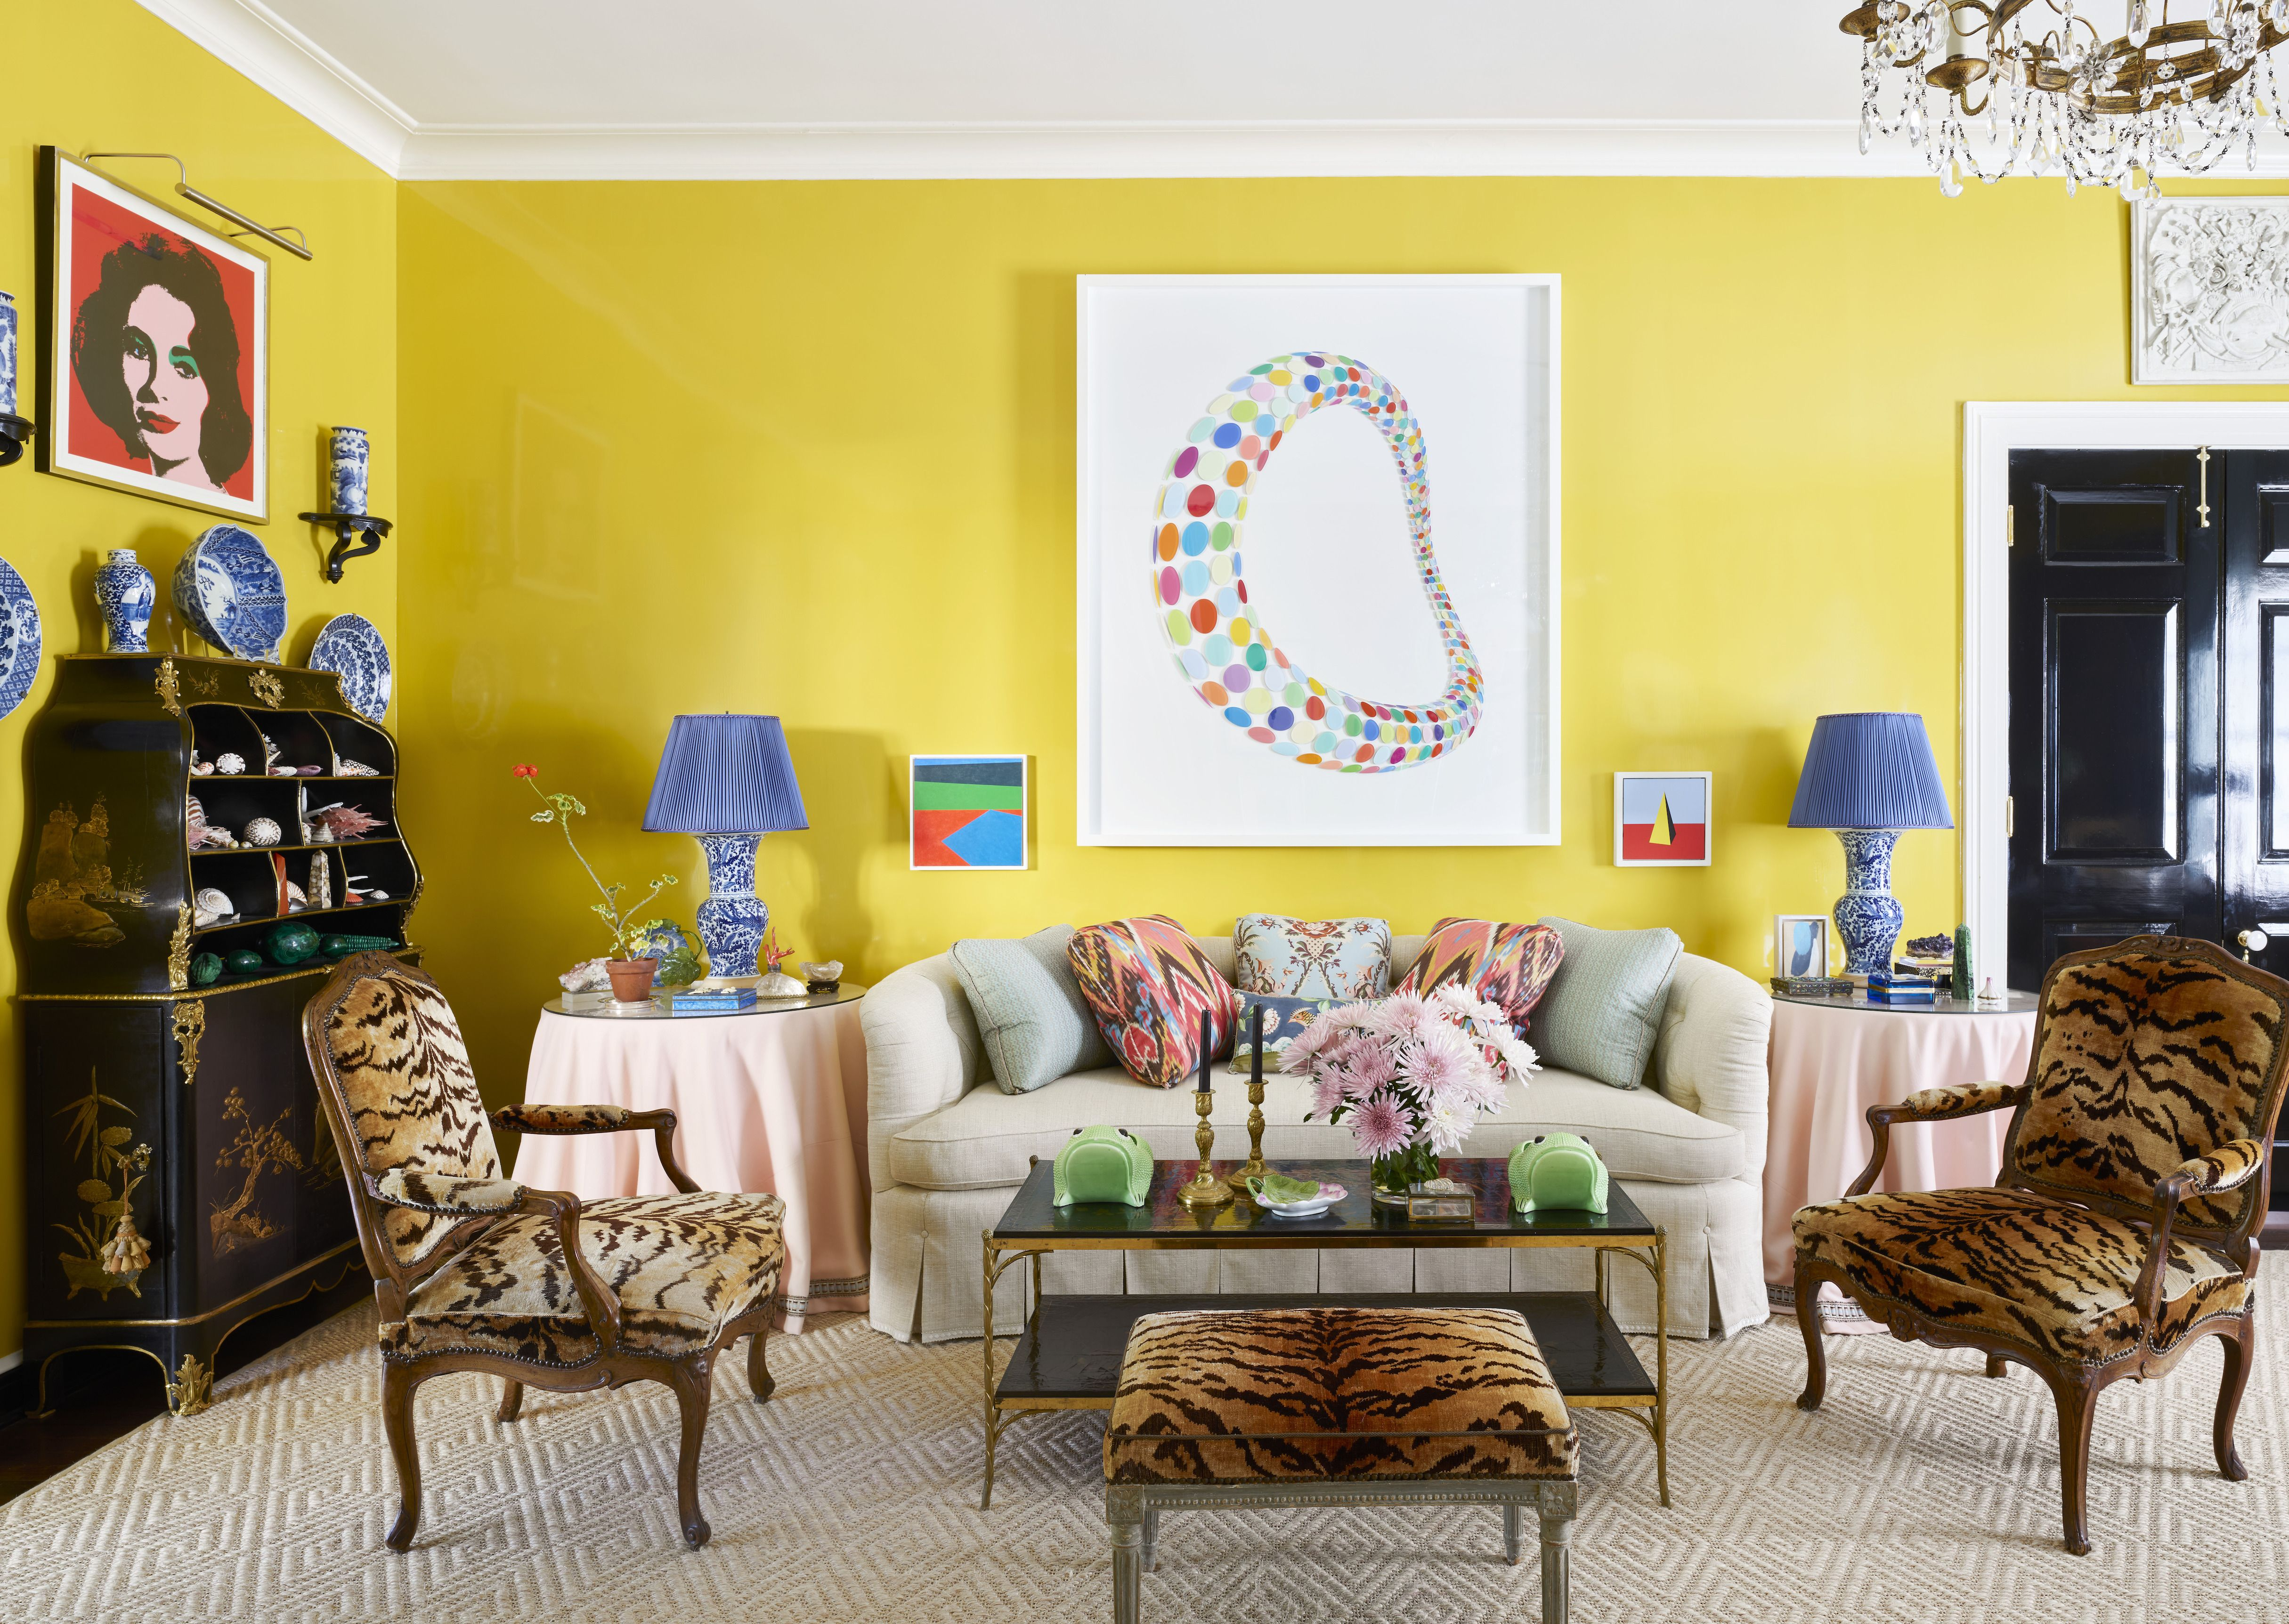biru: (663, 712, 791, 981), (1820, 703, 1925, 942), (174, 527, 281, 666), (88, 547, 162, 652)
hijau: (1050, 1132, 1153, 1207), (1510, 1141, 1614, 1214)
pink: (1327, 1004, 1496, 1128)
